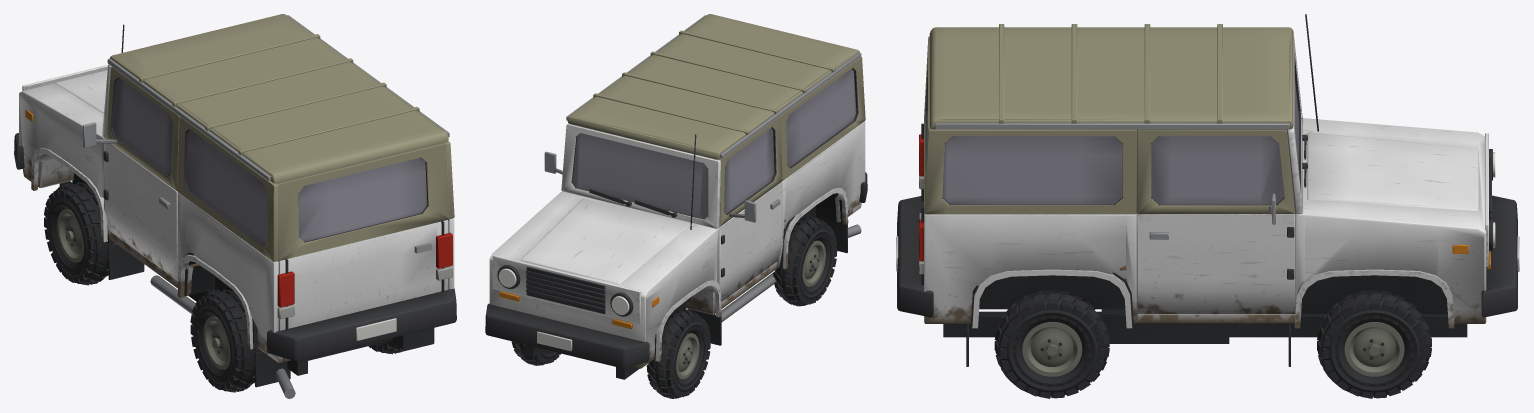
File: lynx.glb
3 renders of one model, left to right at view 1: azimuth 30°, elevation 25°; view 2: azimuth 150°, elevation 25°; view 3: azimuth 270°, elevation 25°, orthographic. The views are drawn at different scales.
Visible parts, largest first — view 1: body, door_FL, wheel_FL, wheel_RL; view 2: body, door_FL, wheel_FL, wheel_RL, wheel_FR; view 3: body, door_FR, wheel_RR, wheel_FR.
Boxes of the visible parts, x1,y1,x2,y2 form: body: (14,14,456,398); door_FL: (83,66,179,280); wheel_FL: (44,181,115,285); wheel_RL: (190,289,261,392); body: (485,14,867,379); door_FL: (719,116,781,301); wheel_FL: (646,309,710,398); wheel_RL: (773,217,837,306); wheel_FR: (511,341,560,365); body: (896,14,1519,366); door_FR: (1137,129,1295,314); wheel_RR: (994,289,1109,398); wheel_FR: (1317,289,1431,398).
Size of the model in its own units: 1.94 by 2.1 by 3.9.
17 materials, 1 textured.
